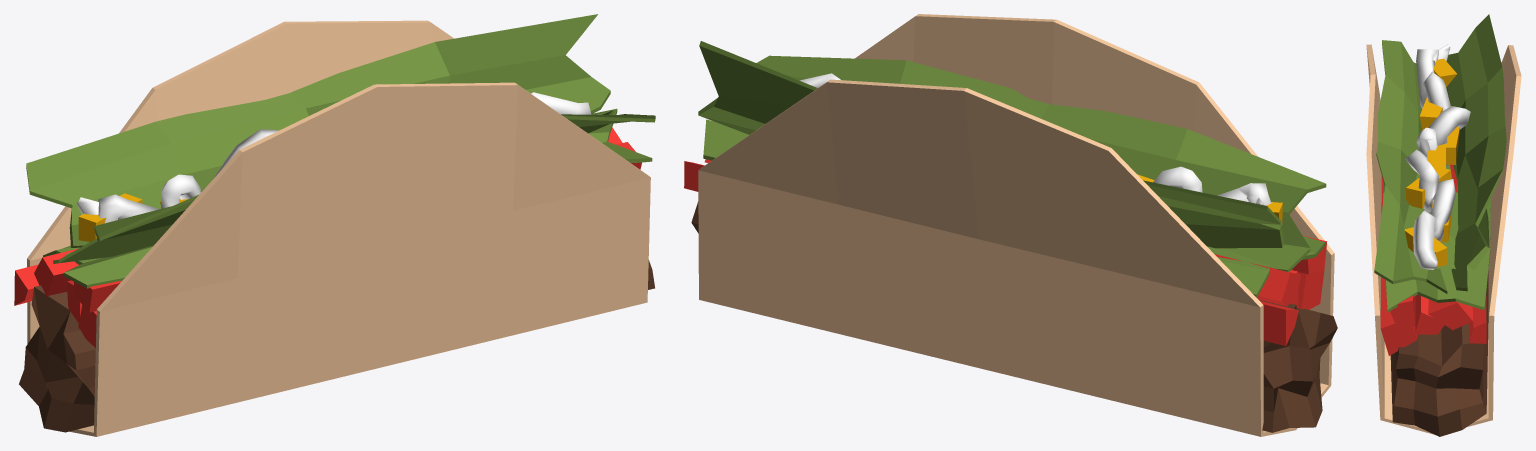
Rendered from Taco_01.fbx.
3 renders of one model, left to right at view 1: azimuth 30°, elevation 25°; view 2: azimuth 150°, elevation 25°; view 3: azimuth 270°, elevation 25°, orthographic. The views are drawn at different scales.
Visible parts, largest first — view 1: Taco_01; view 2: Taco_01; view 3: Taco_01.
Boxes of the visible parts, x1,y1,x2,y2 form: Taco_01: [14, 14, 655, 436]; Taco_01: [684, 14, 1337, 436]; Taco_01: [1366, 14, 1521, 436].
Bounding box in the file's own units: 26.6 × 13.07 × 7.34.
